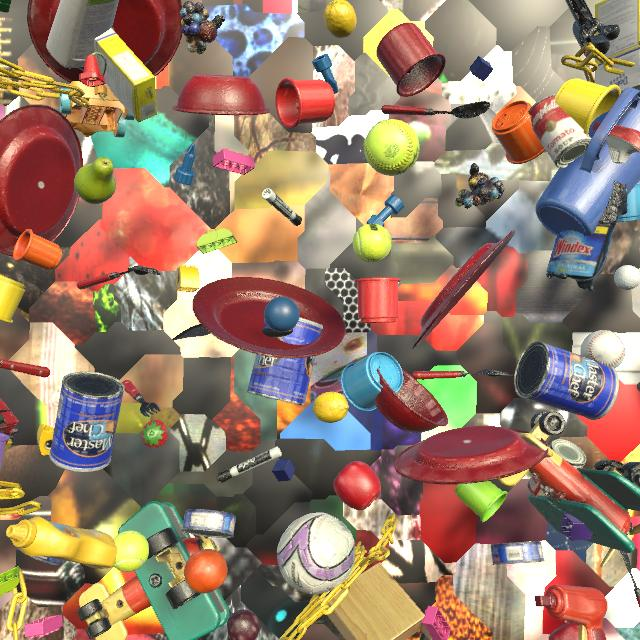ycb_002_master_chef_can: (514, 341, 619, 420), (49, 371, 125, 472), (247, 317, 323, 406)
ycb_004_sugar_box: (94, 28, 157, 123), (595, 0, 640, 92)
ycb_005_tomato_soup_can: (528, 94, 591, 168), (527, 439, 587, 498)
ycb_006_mustard_bottle: (6, 516, 118, 569)
ycb_007_tuna_fish_can: (182, 509, 236, 538), (491, 541, 545, 565), (17, 547, 64, 566)
ycb_012_strawberry: (142, 420, 168, 448)
ycb_013_apple: (333, 461, 381, 510), (548, 622, 579, 640)
ycb_014_lemon: (324, 0, 357, 38), (313, 392, 349, 423)
ycb_016_pear: (74, 157, 116, 204)
ycb_017_orange: (184, 549, 228, 593)
ycb_018_plum: (227, 609, 260, 640)
